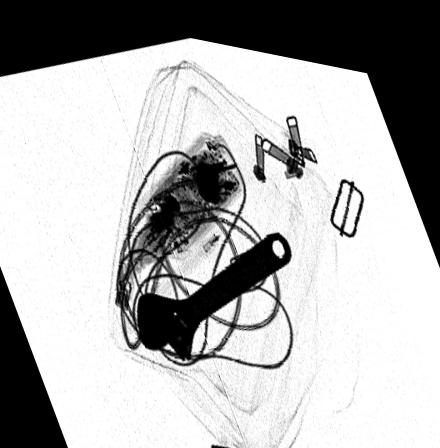Wrench: (137, 220, 293, 354)
